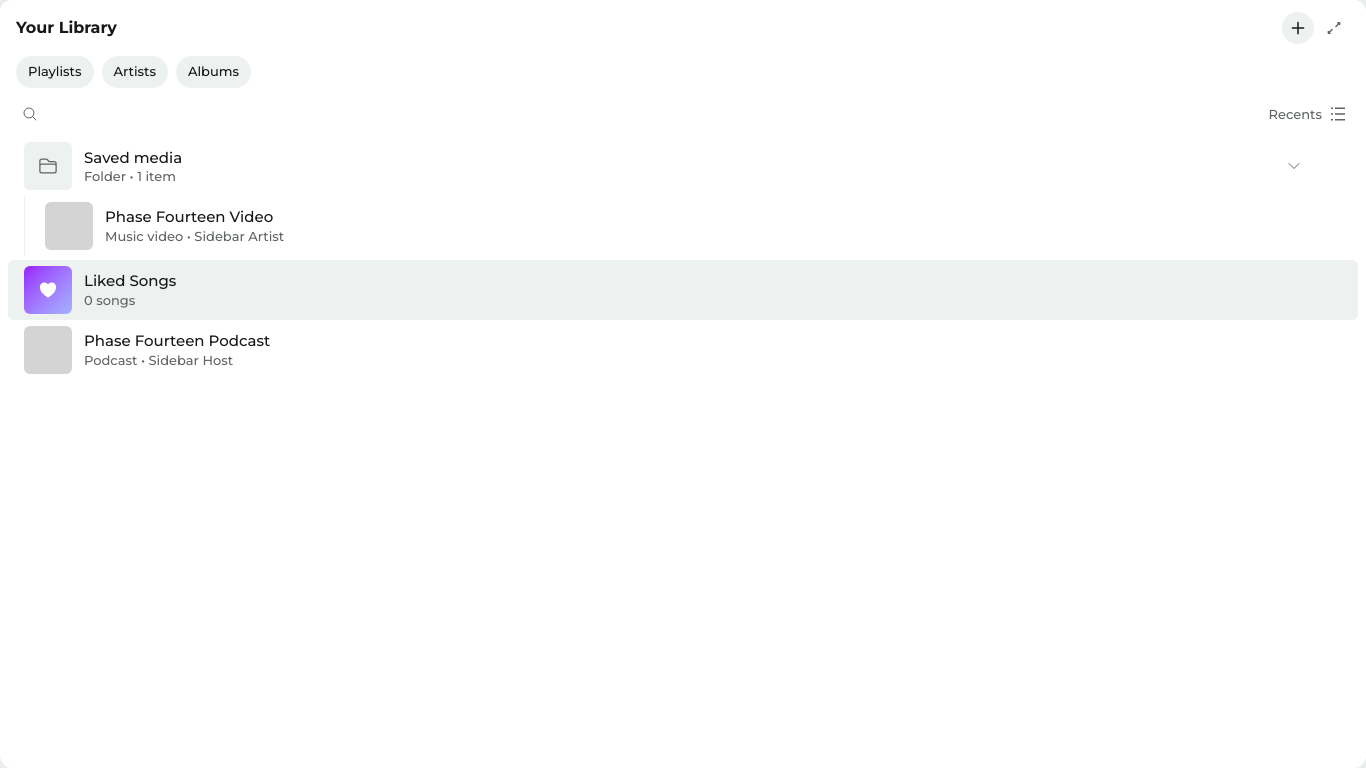
Scenario: Sidebar saved media navigation › folder dropdown consistency (bug 25) › opens the folder menu on right-click and closes it on an outside click
Right-click the text "Saved media": (683,166) [8,136,1358,196]
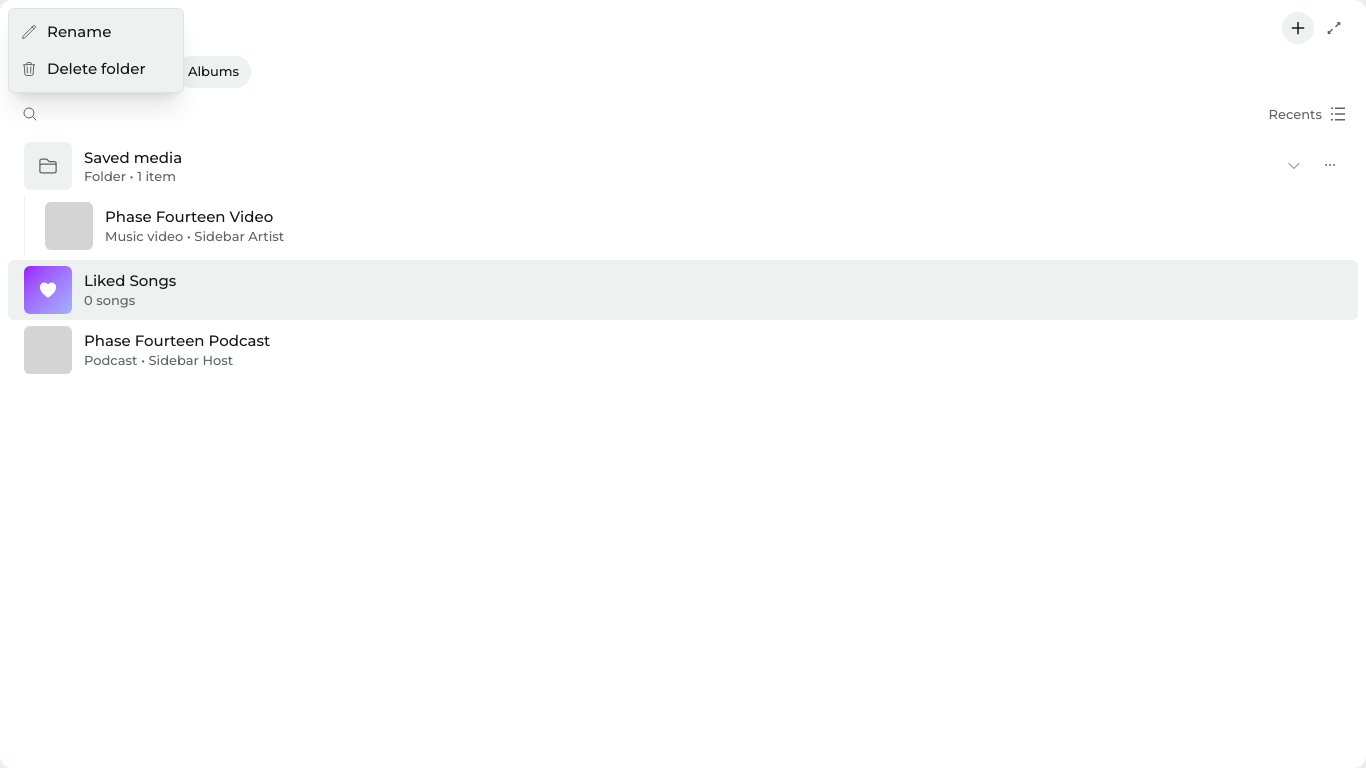
Expected: the button "Rename" is shown, [9,13,183,50]
Expected: the button "Delete folder" is shown, [9,50,183,88]
Expected: the element with class "inset-0" is shown
Press the mouse on the element with class "inset-0": (683,384) [0,0,1365,767]
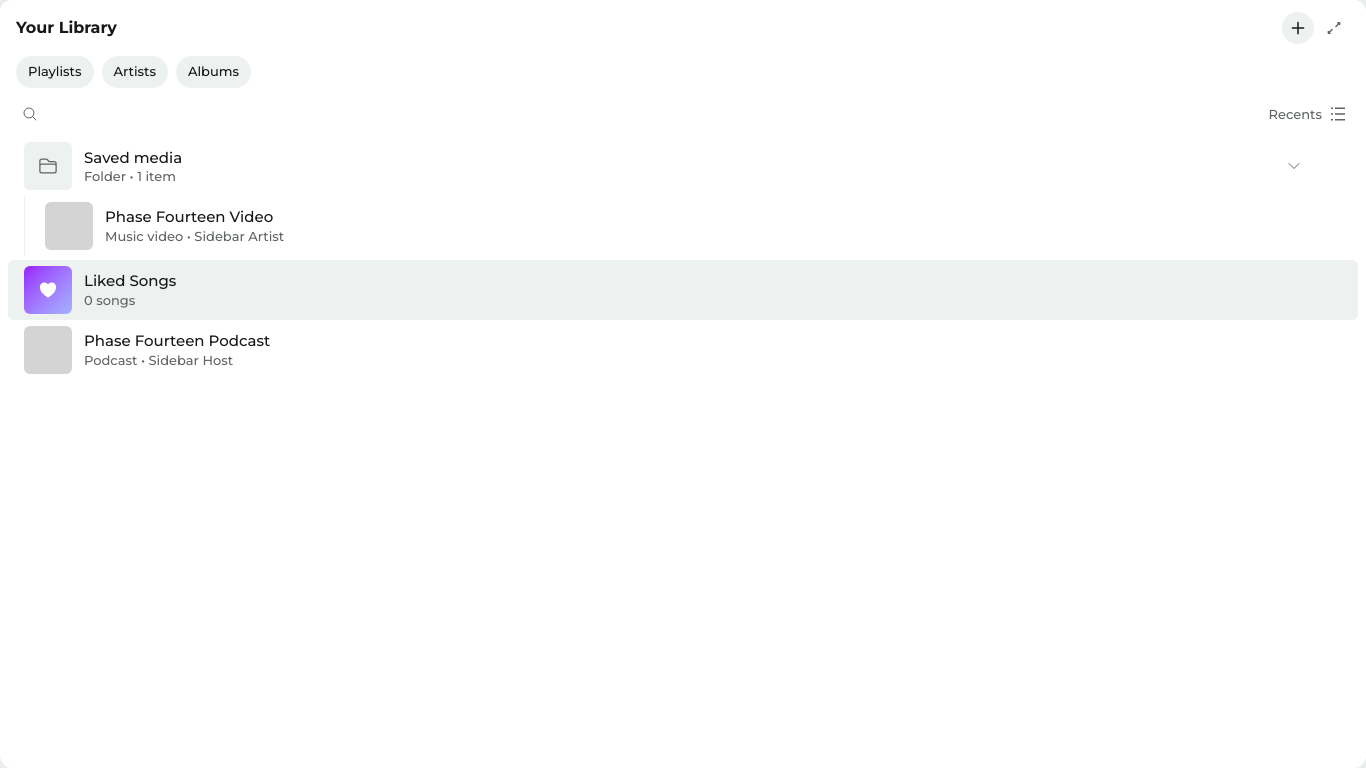
Expected: the button "Delete folder" is gone
